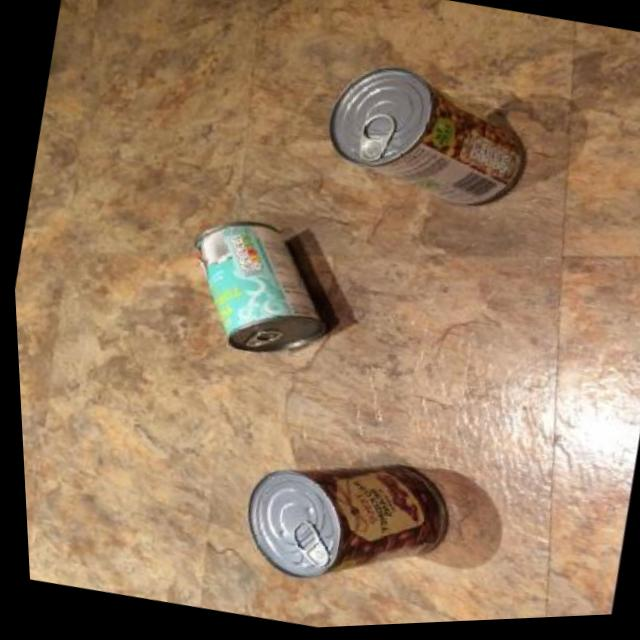metal: (232, 429, 467, 609), (312, 46, 546, 226), (170, 202, 356, 373)
